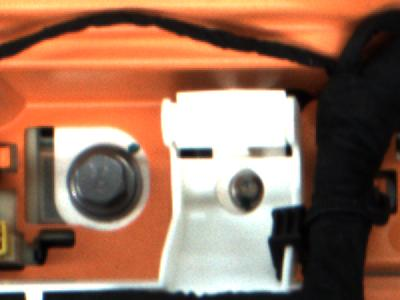nut_b: (62, 142, 143, 221)
